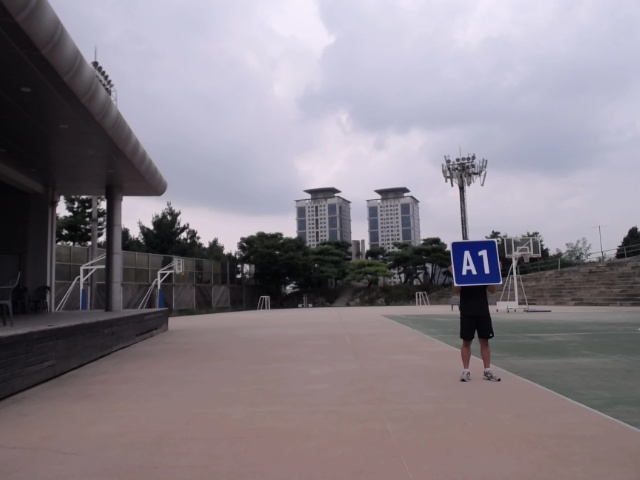delivery_a1: (451, 239, 502, 284)
